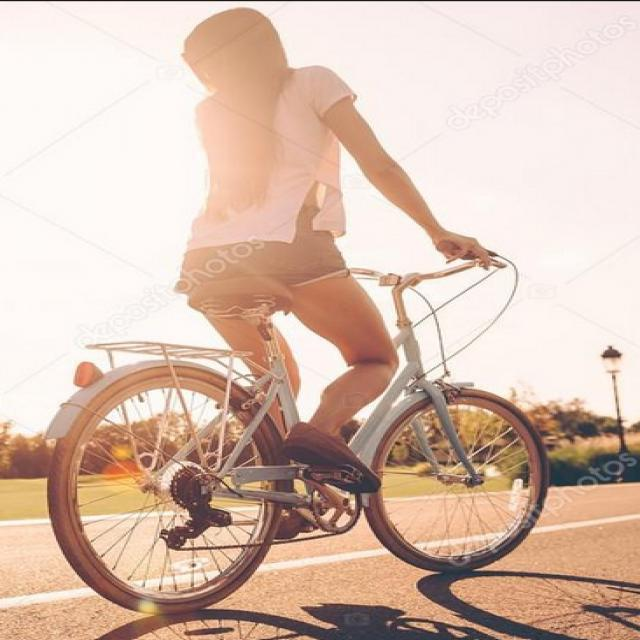car: (50, 229, 558, 615)
